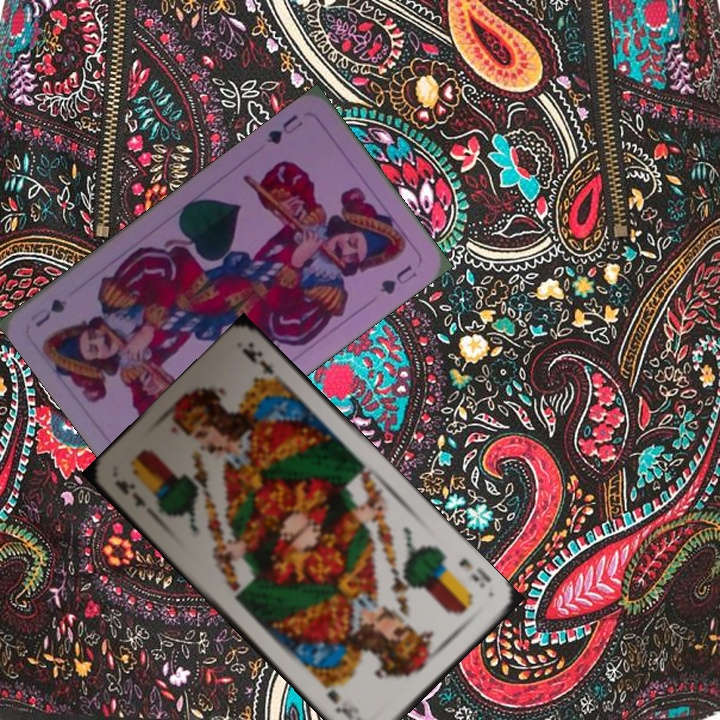EK: (454, 554, 494, 591), (111, 475, 149, 511)
GU: (262, 110, 306, 147)
